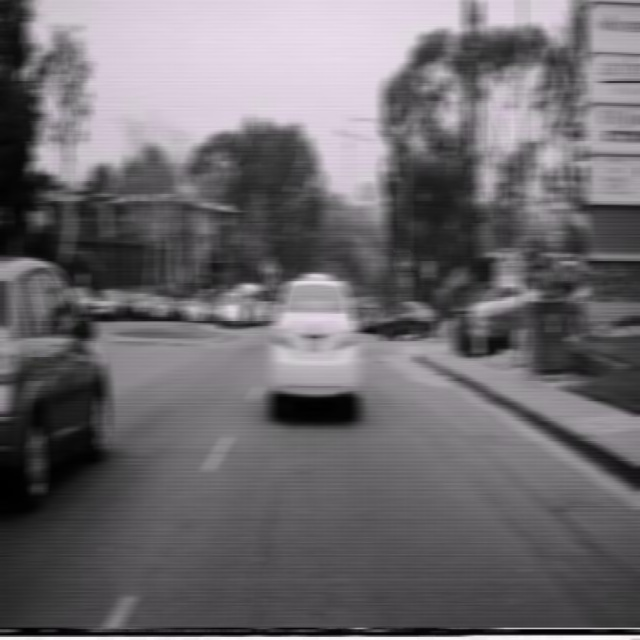signalAhead: (397, 250, 412, 278)
stop: (423, 257, 432, 280)
